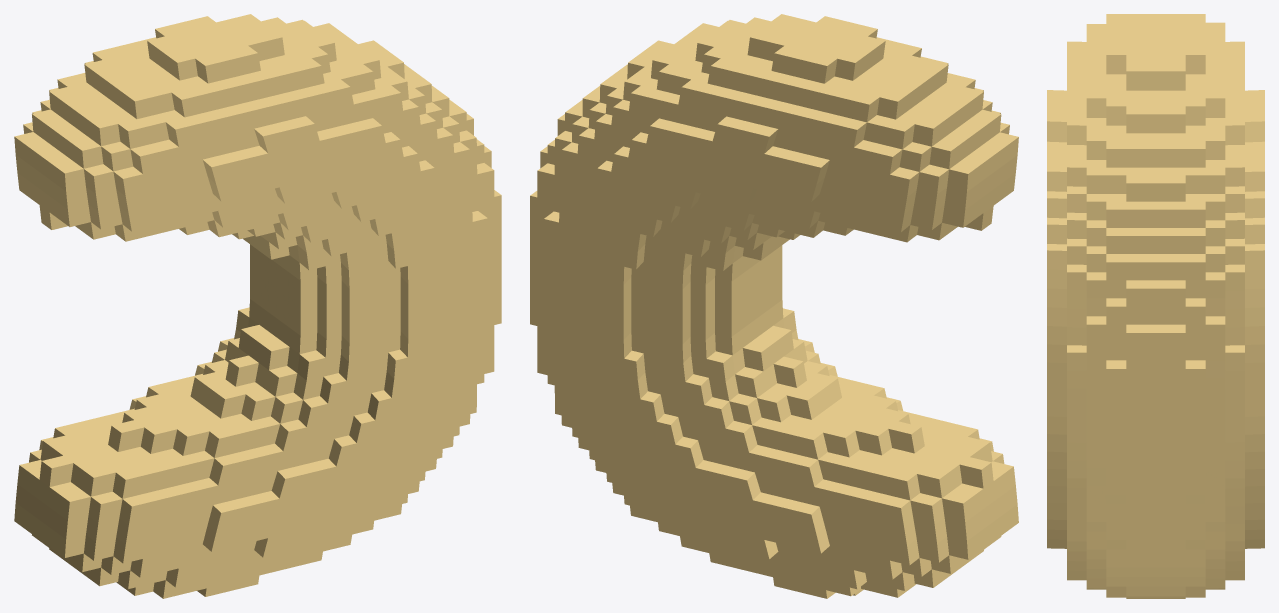
File: Moon.gltf
3 views of the same model, side by side, from view 1: azimuth 30°, elevation 25°; view 2: azimuth 150°, elevation 25°; view 3: azimuth 270°, elevation 25° (orthographic). The views are drawn at different scales.
Parts seen in each view (by area): view 1: Cube; view 2: Cube; view 3: Cube.
Boxes of the visible parts, <box> form: Cube: <box>14,14,501,598</box>; Cube: <box>530,14,1018,598</box>; Cube: <box>1047,14,1264,598</box>.
Bounding box in the file's own units: 4.5 × 5.23 × 1.98.
